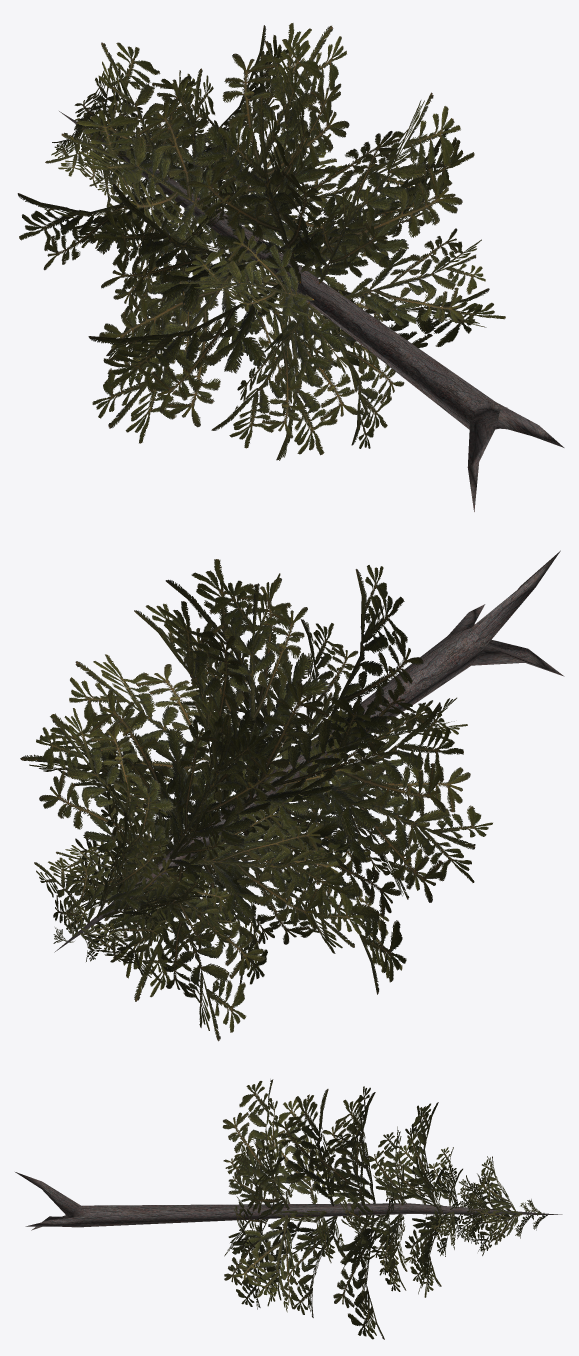
File: Conif_05.fbx
3 views of the same model, one above another, from view 1: azimuth 30°, elevation 25°; view 2: azimuth 150°, elevation 25°; view 3: azimuth 270°, elevation 25° (orthographic). The views are drawn at different scales.
Visible parts, largest first — view 1: conifer_05; view 2: conifer_05; view 3: conifer_05.
Part boxes in pixels (x1,y1,x2,y2): conifer_05: (17,23,564,511); conifer_05: (20,550,564,1041); conifer_05: (15,1079,562,1339).
Bounding box in the file's own units: 9.05 × 8.64 × 18.25.
